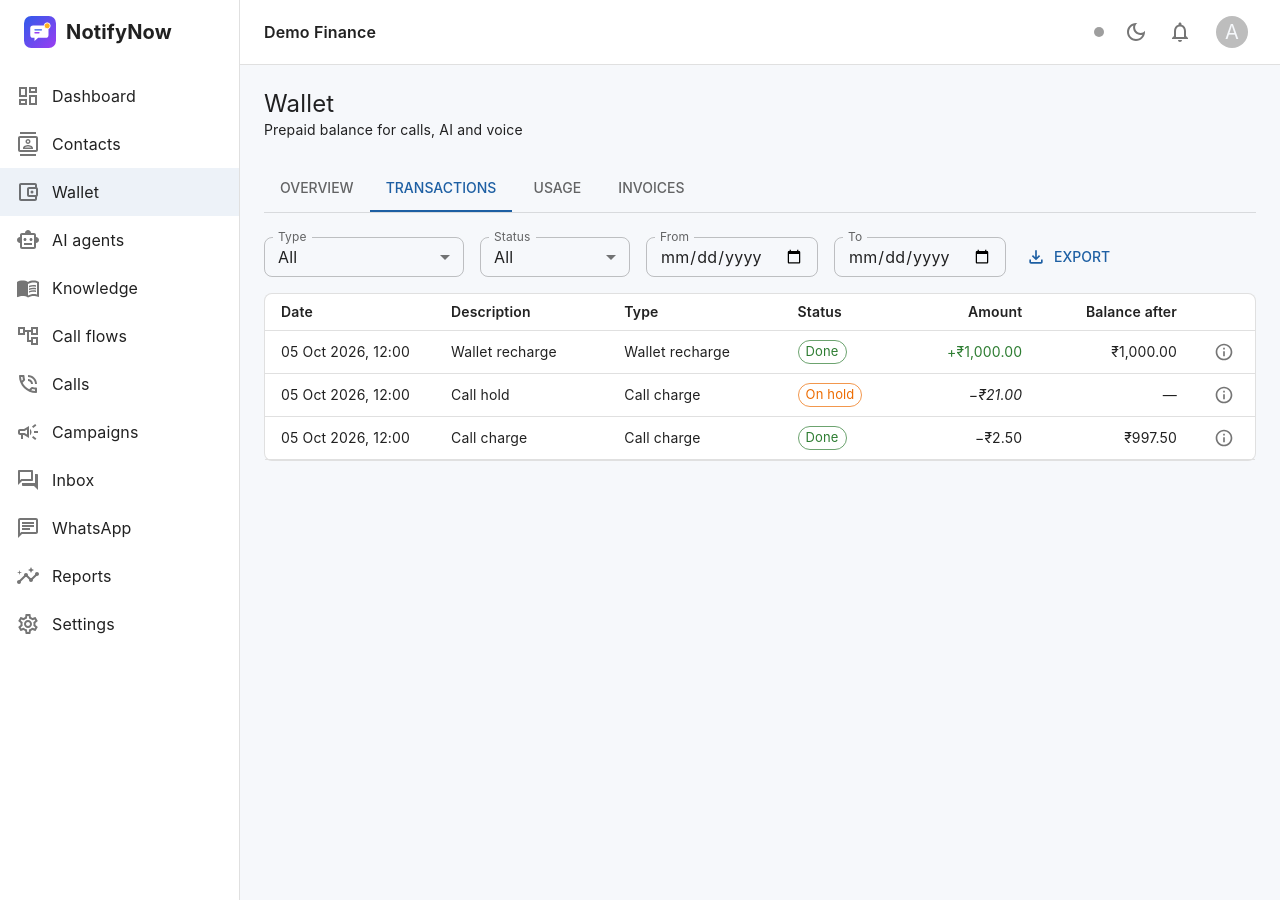
transactions › exports a CSV for a valid range only
The width and height of the screenshot is (1280, 900).
Click the button "Export". click: (1070, 257)
box: [1022,239,1118,275]
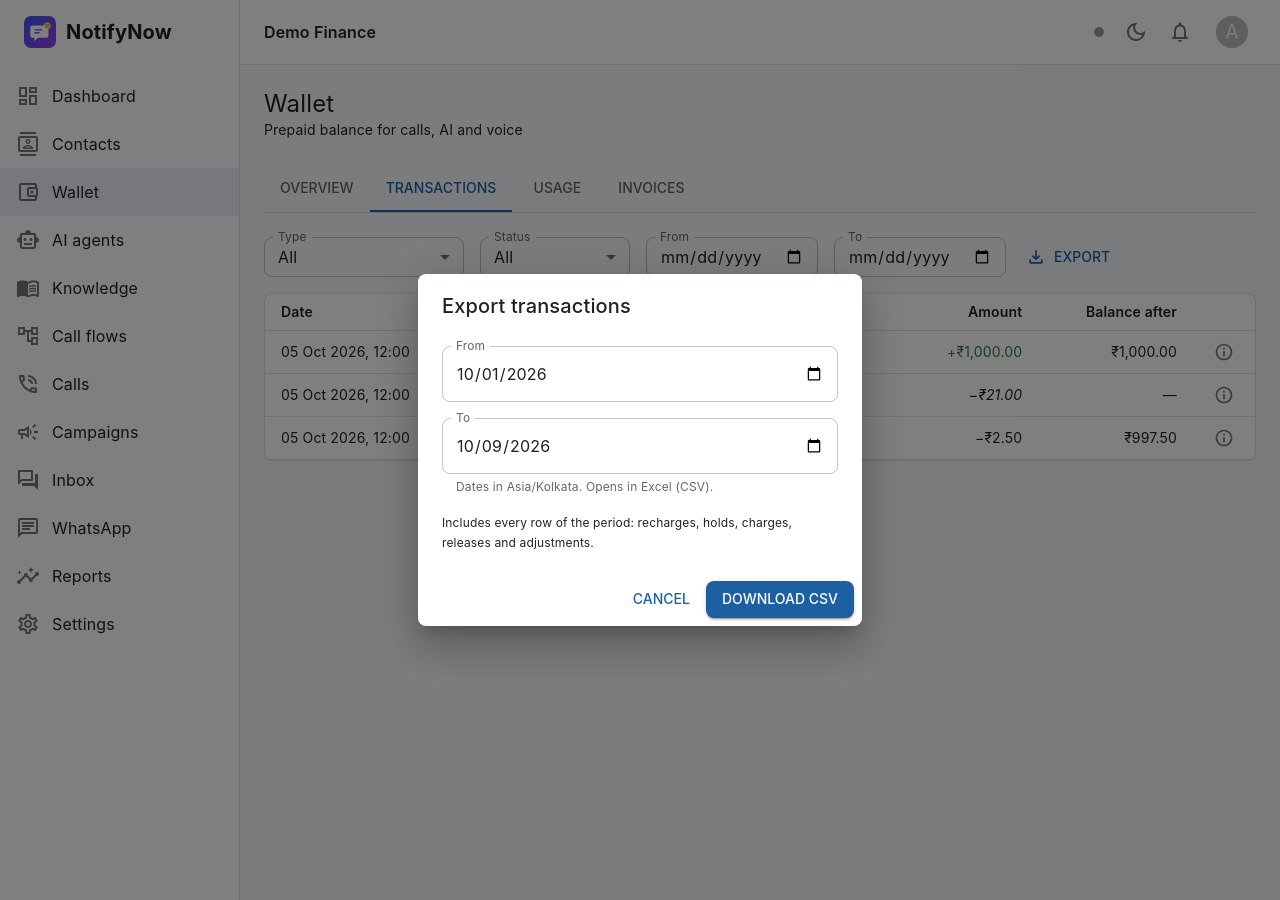
Check: the date field labelled "From" holds "2026-10-01"
Check: the date field labelled "To" holds "2026-10-09", box [442,418,838,474]
Type "2025-01-01" into the date field labelled "From". click: (640, 374)
box: [442,346,838,402]
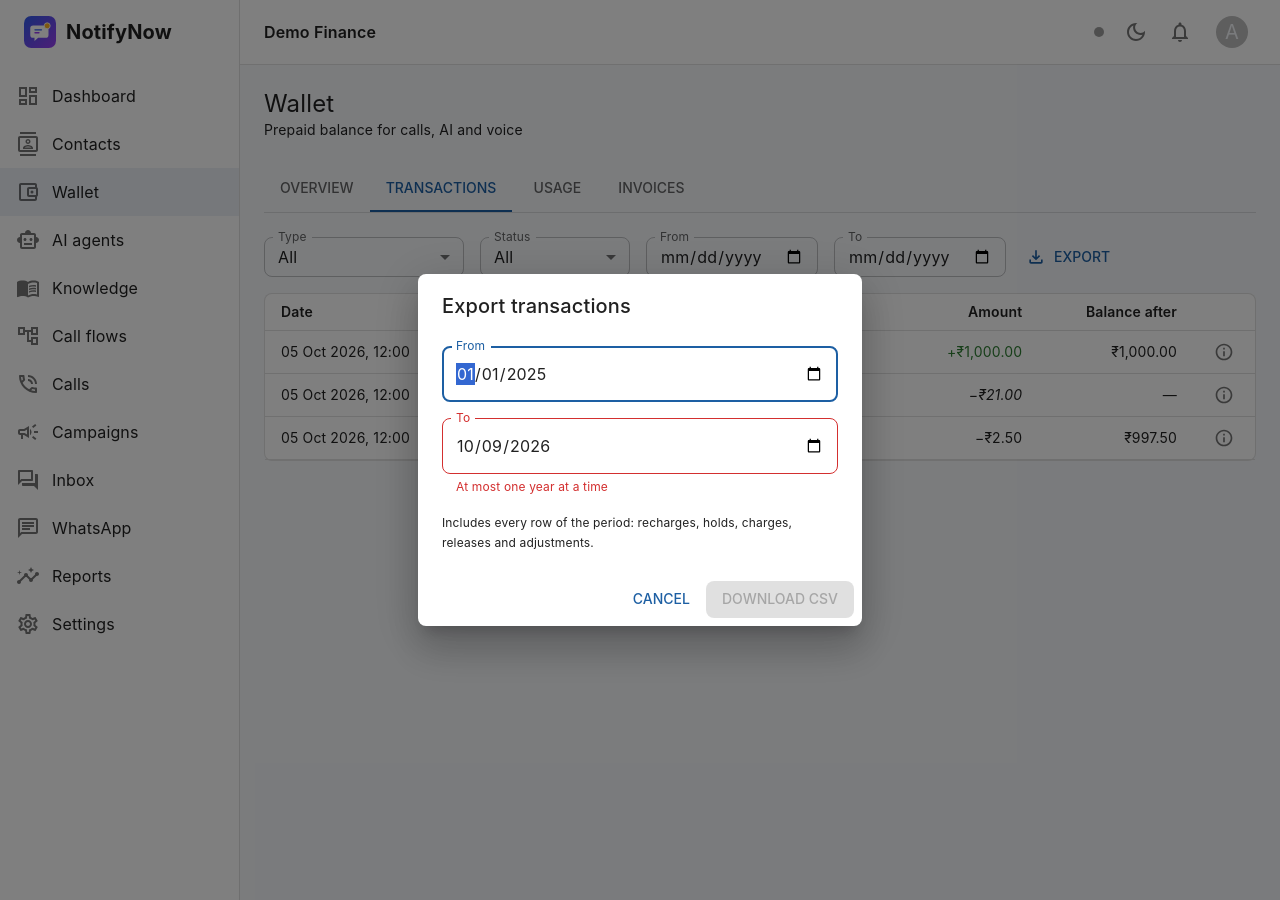
Check: the button "Download CSV" is disabled, box [706,581,854,618]
Check: the text "At most one year at a time" is shown, box [456,479,608,494]
Type "2026-10-10" into the date field labelled "From". click: (640, 374)
box: [442,346,838,402]
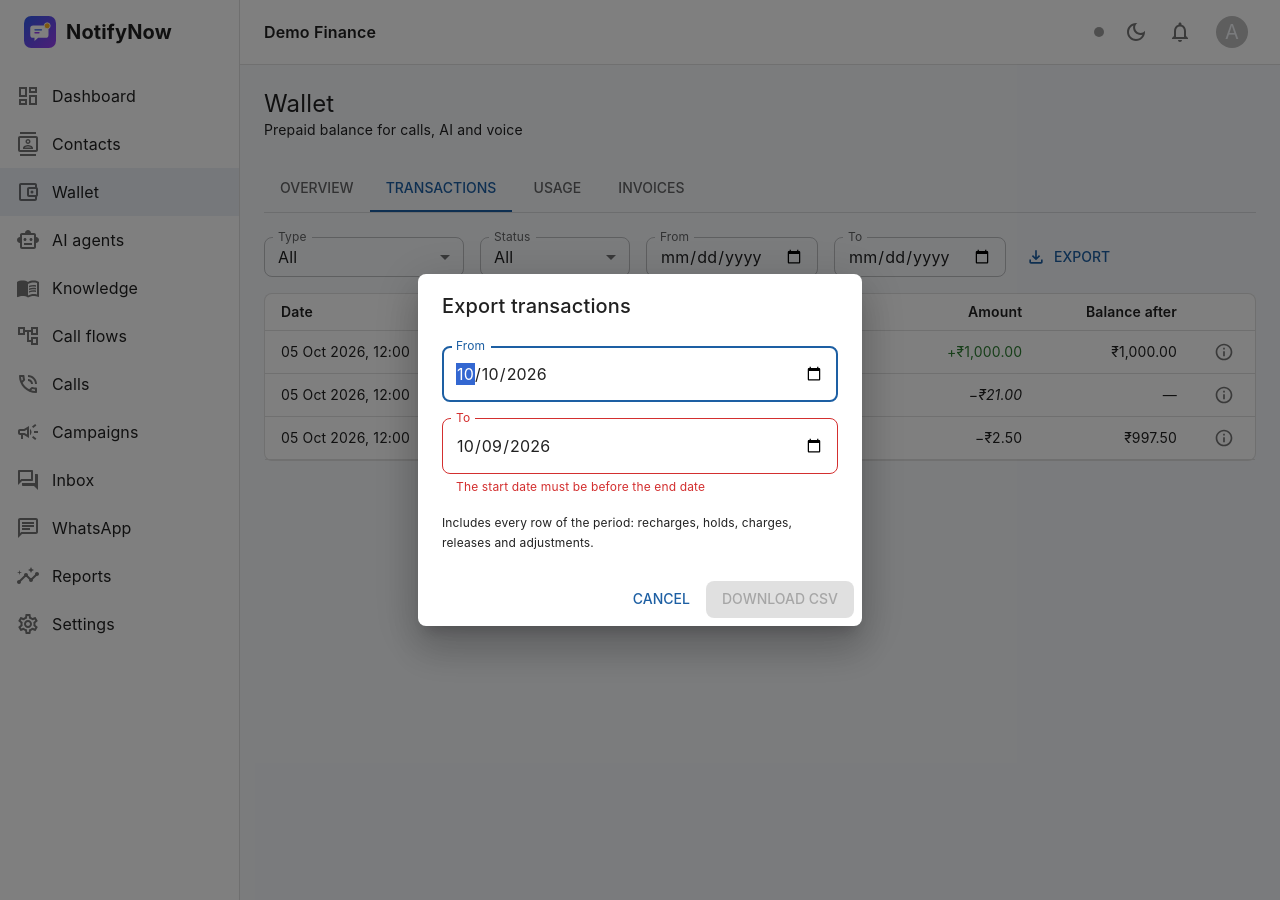
Check: the text "The start date must be before the end date" is shown, box [456,479,705,494]
Type "2026-10-01" into the date field labelled "From". click: (640, 374)
box: [442,346,838,402]
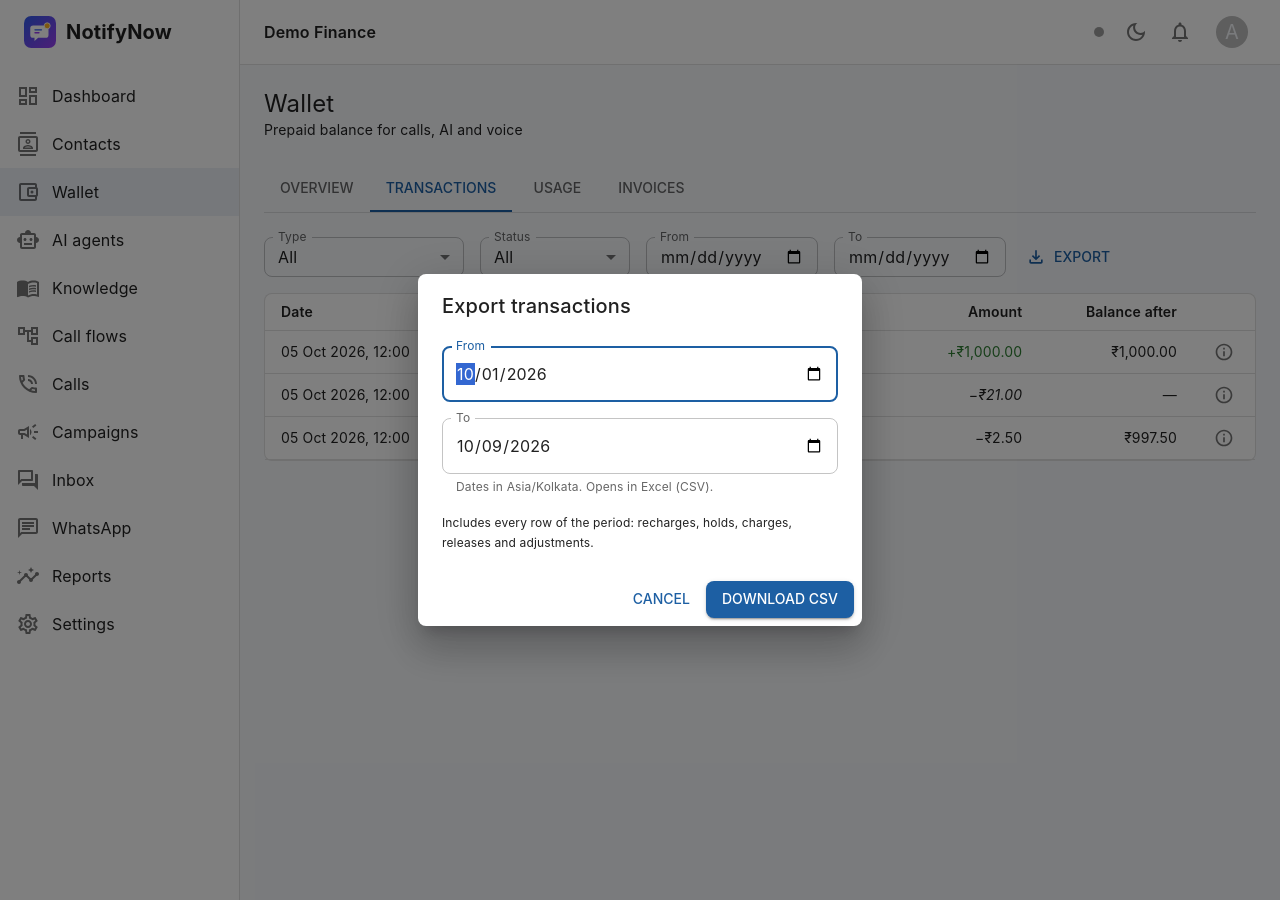
Click the button "Download CSV". click: (780, 599)
box: [706,581,854,618]
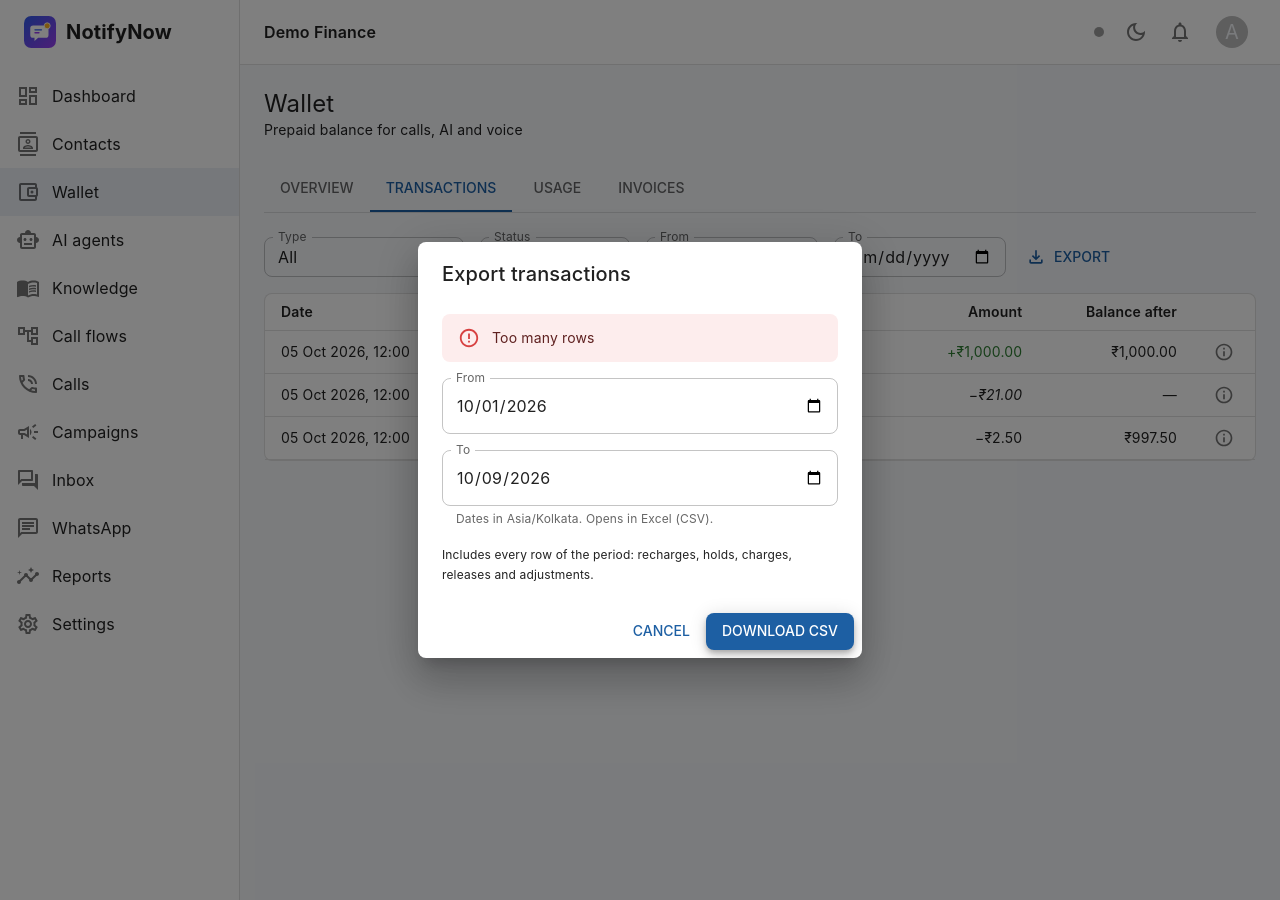
Check: the text "Too many rows" is shown, box [492,329,595,346]
Click the button "Download CSV". click: (780, 631)
box: [706,613,854,650]
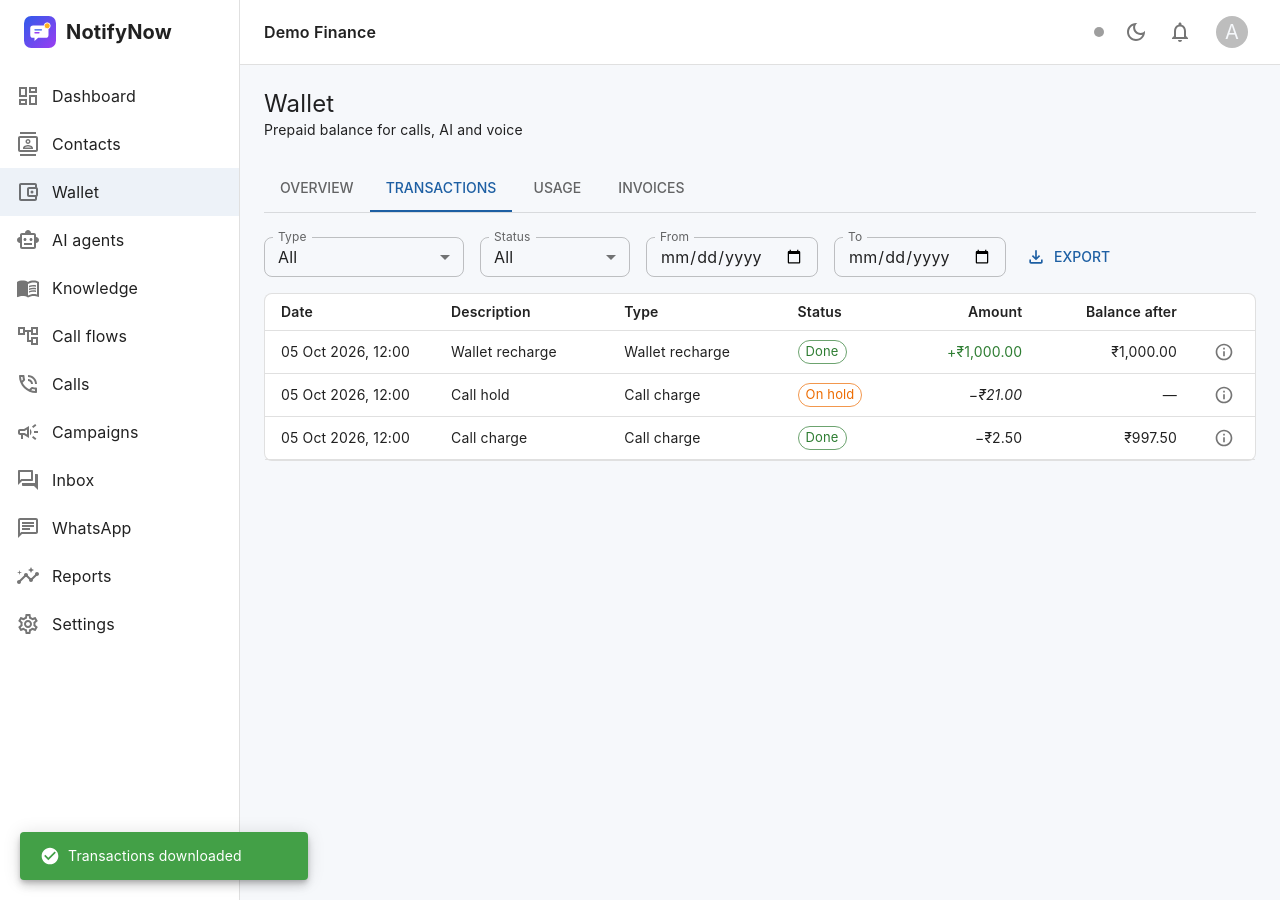
Check: the text "Transactions downloaded" is shown, box [40,846,242,866]
